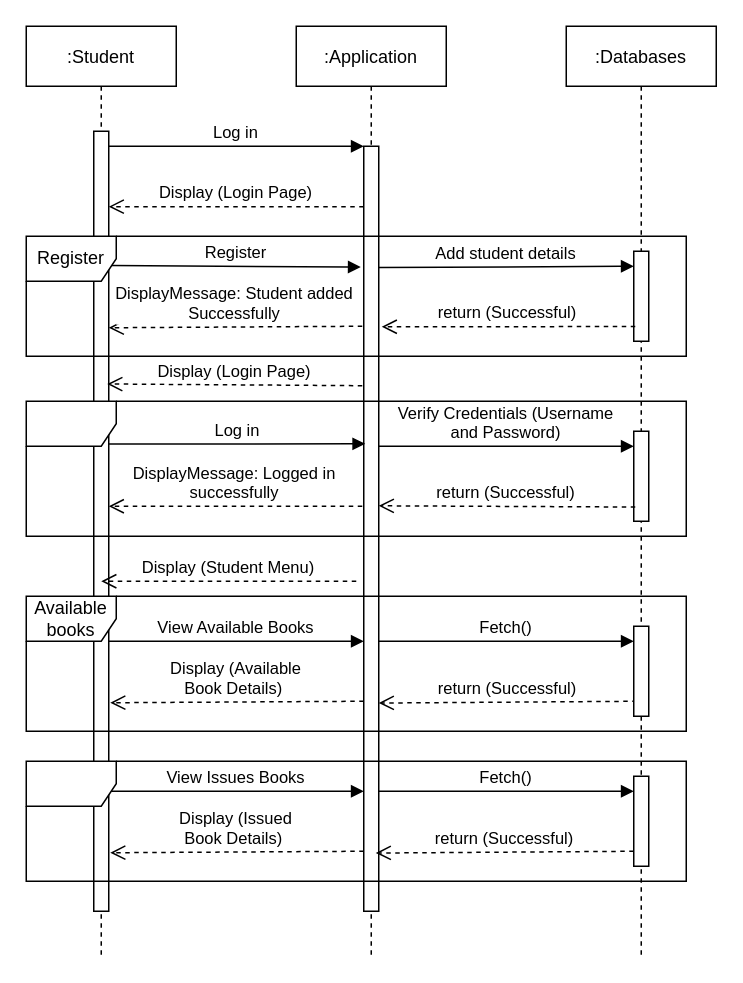
This 743x983 diagram has some shape labels left out. The shapes that lost their labels are listed below. From the top down, each one's centre as x and y in pixels, then its label:
At point 355,468: "Login".
At point 355,820: "Issued Books".
